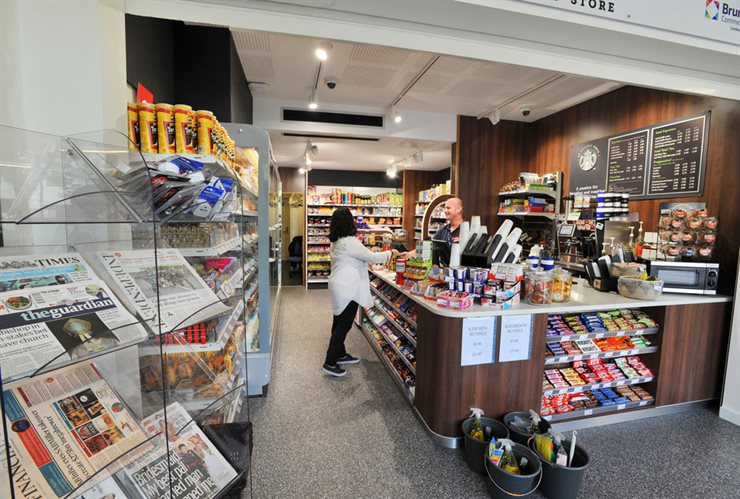Age_30_40: (443, 201, 463, 221)
E_White: (443, 201, 463, 221)
Emotion_Happy: (443, 201, 463, 221)
G_Male: (443, 201, 463, 221)
Not_Face: (334, 208, 358, 237)
